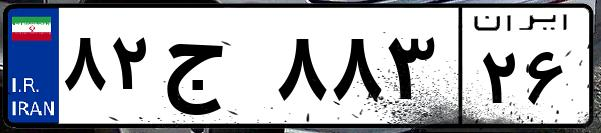2: (475, 38, 525, 113), (110, 28, 158, 98)
3: (385, 28, 445, 110)
6: (525, 38, 570, 115)
8: (270, 28, 330, 110), (330, 28, 385, 110), (57, 26, 110, 100)
ج: (158, 20, 270, 120)
